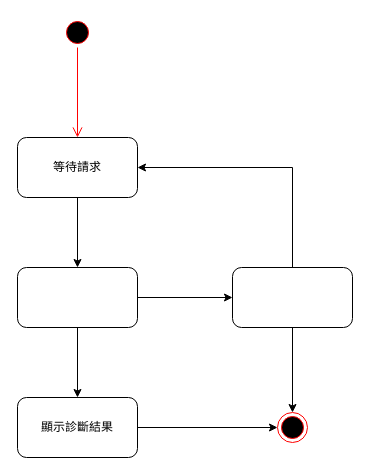
This 370x475 diagram has some shape labels left out. Here are the shapes that lost their labels. From the top down, the box of each, then its label:
(16, 266, 138, 328): 診斷處理中
(232, 266, 352, 328): 診斷失敗
